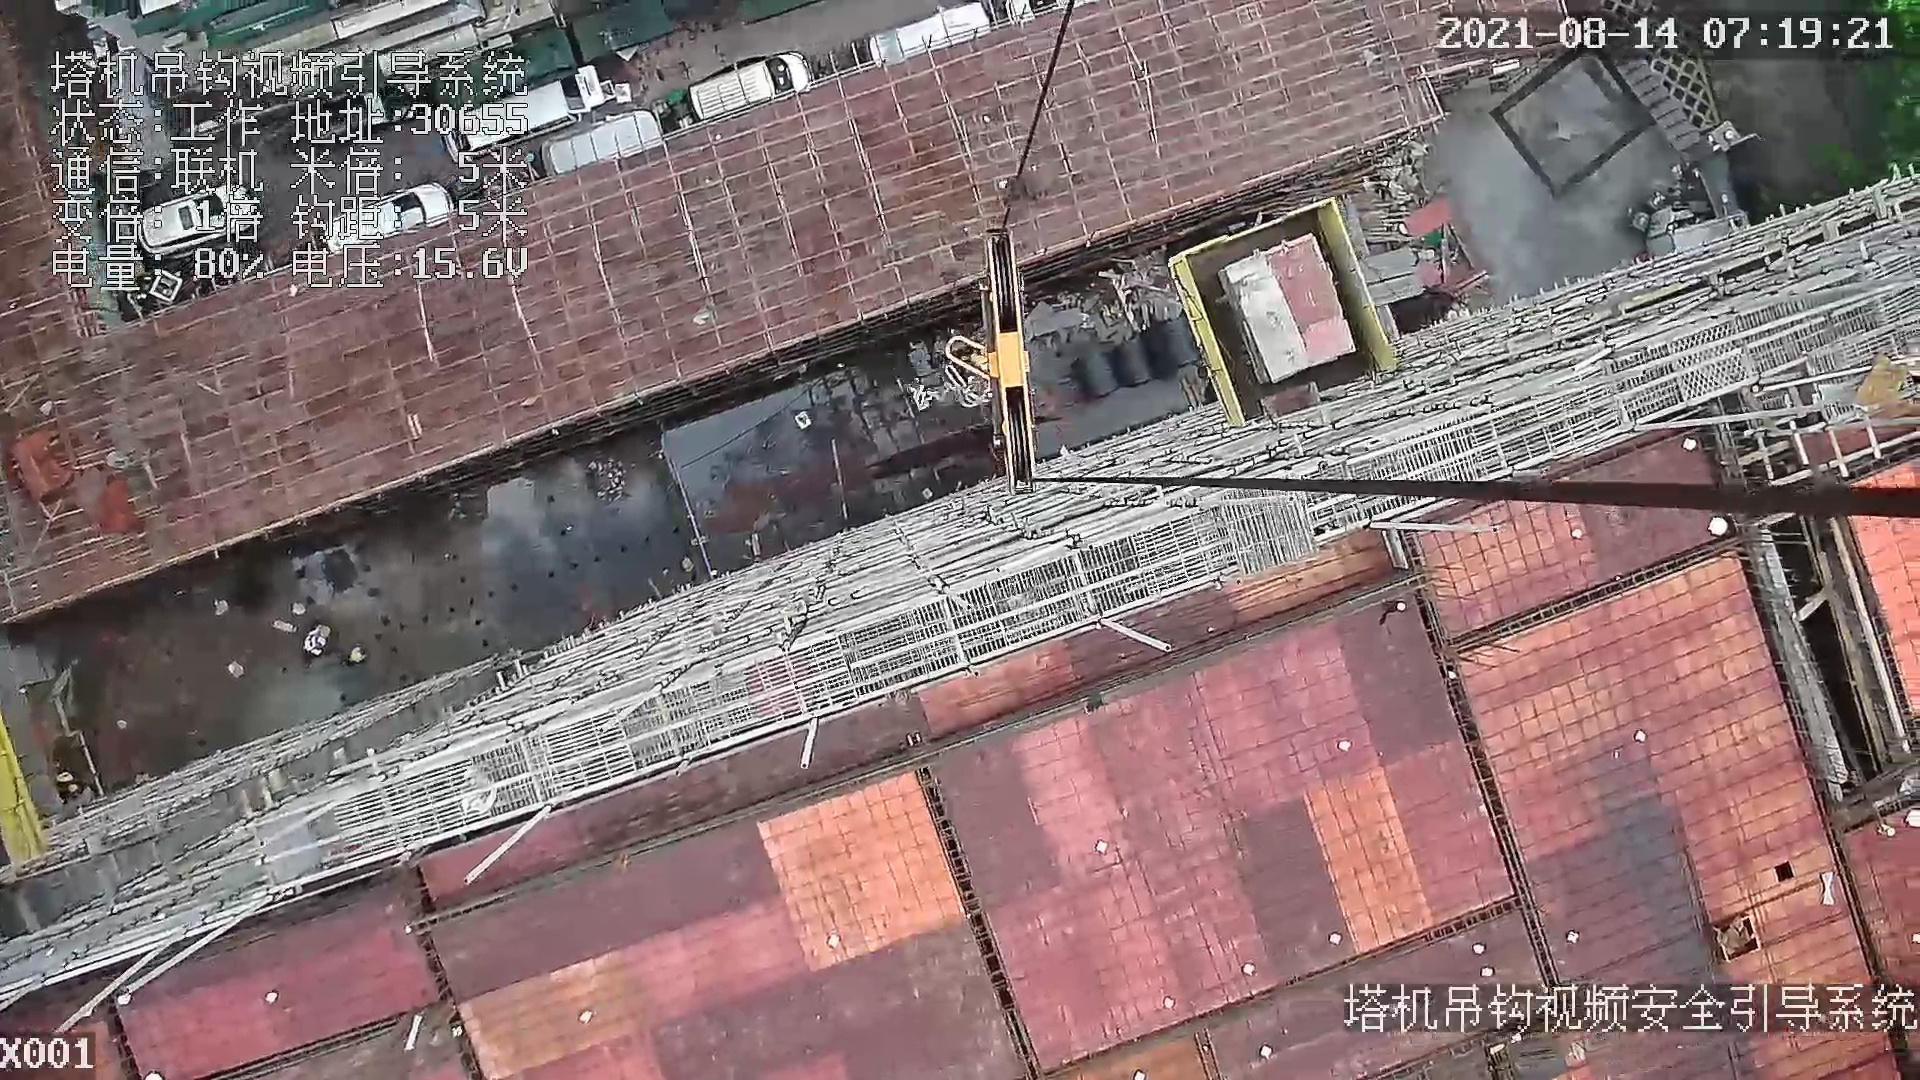hook: (938, 218, 1044, 498)
